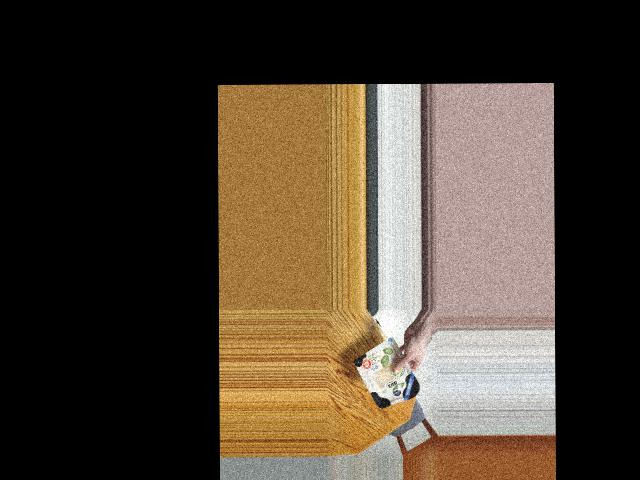cheese: (357, 345, 418, 407)
